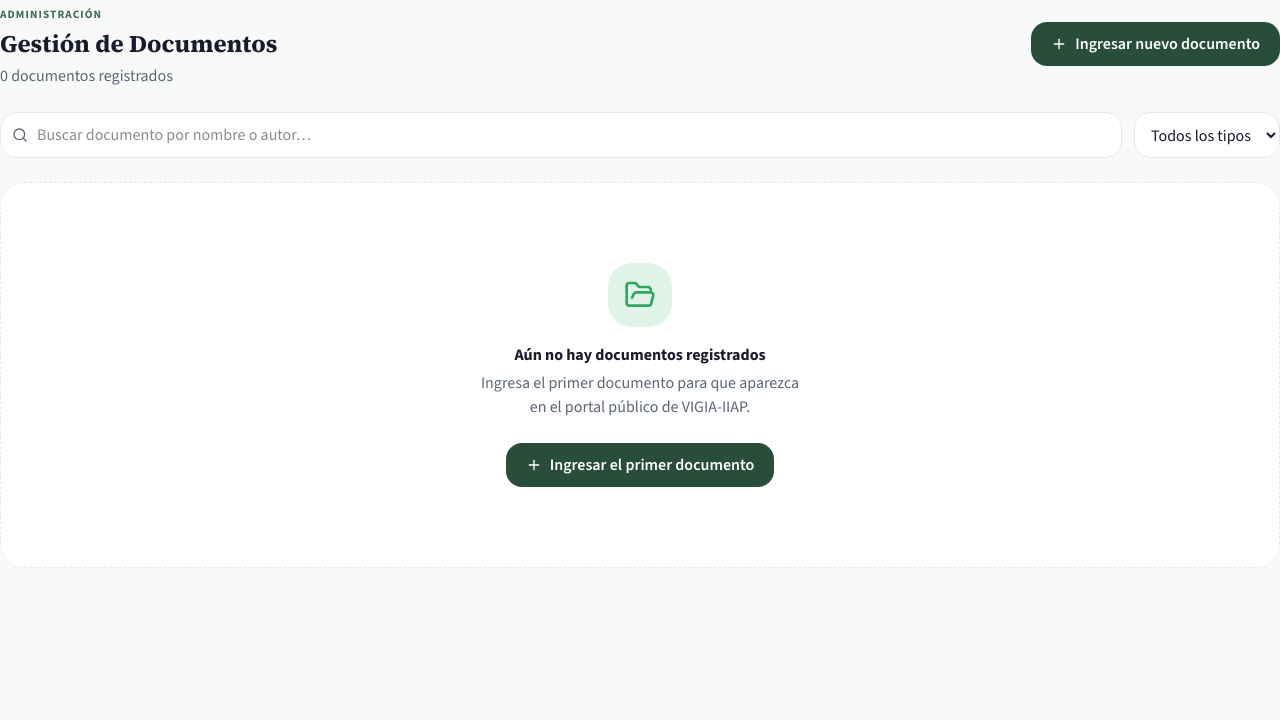
GestionDocumentos — validación del formulario › un año de publicación fuera de rango no debe silenciar los demás errores de validación
This screenshot has width=1280, height=720.
Click the button "Ingresar nuevo documento" at (1156, 44), box x1=1031 y1=22 x2=1279 y2=66
(page scrolled)
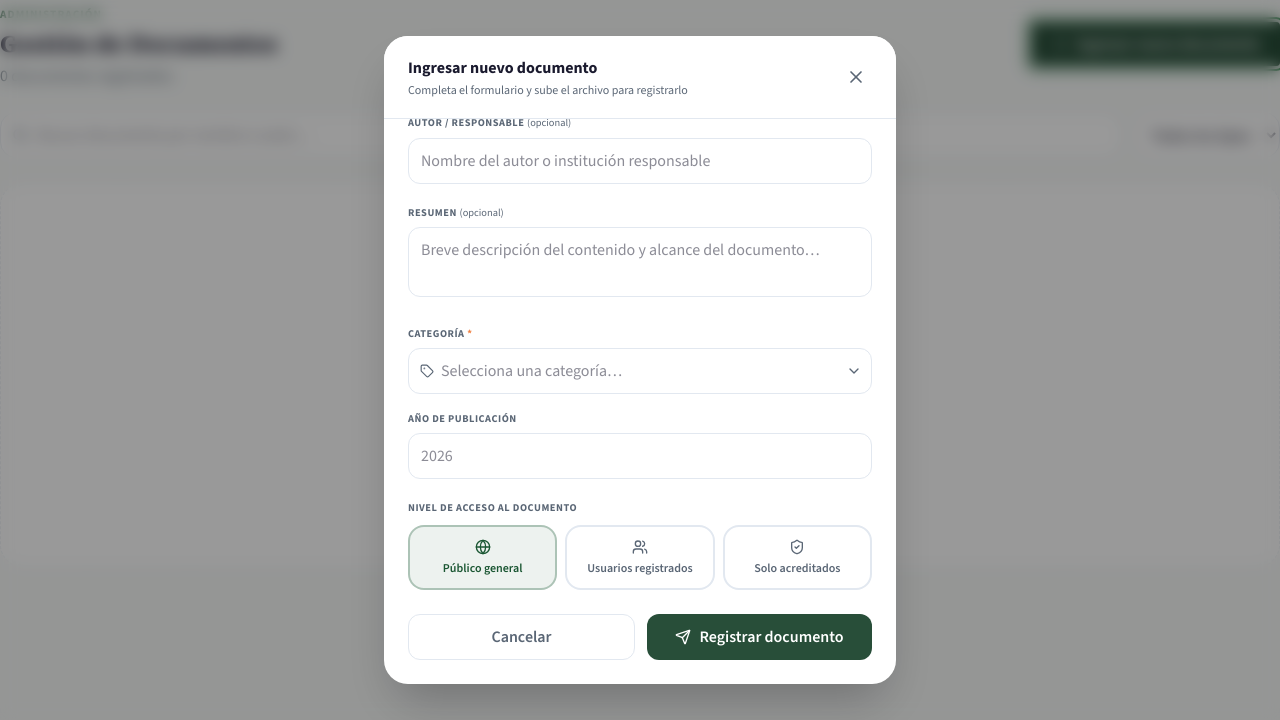
Type "1500" into the number field labelled "Año de publicación" at (640, 456), box x1=408 y1=434 x2=872 y2=480
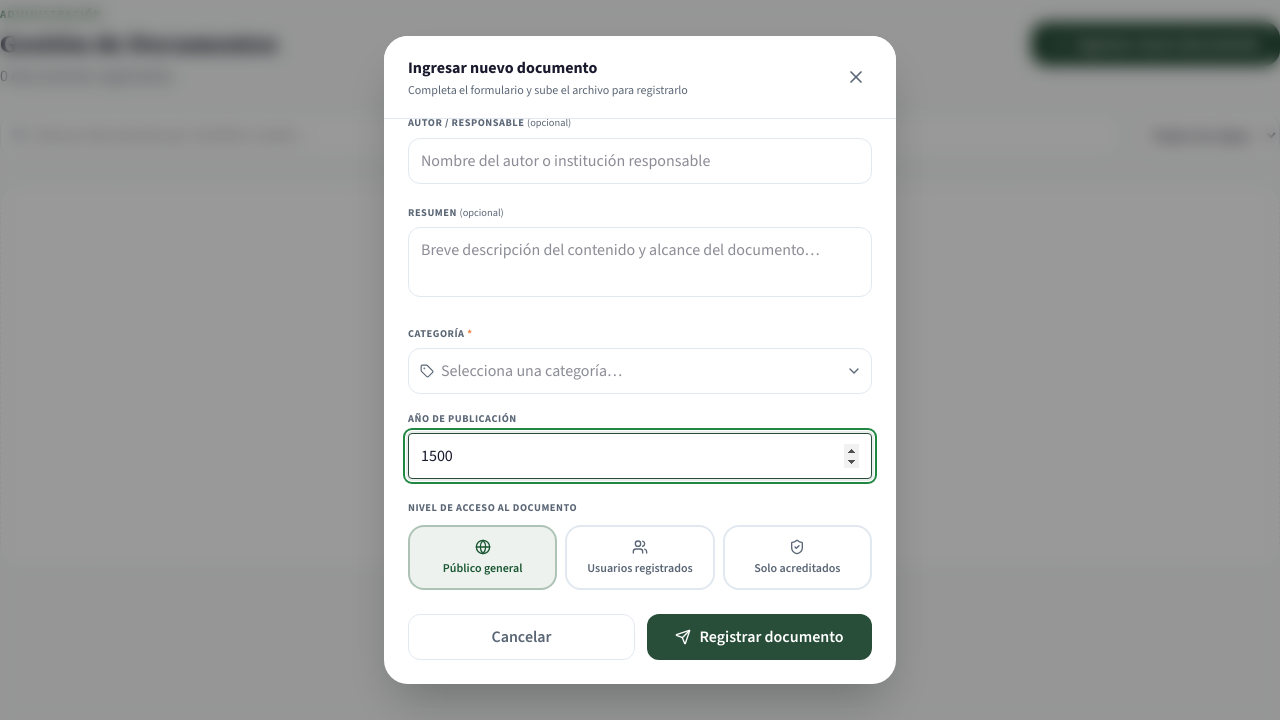
Click the button "Registrar documento" at (760, 637), box x1=647 y1=614 x2=872 y2=660
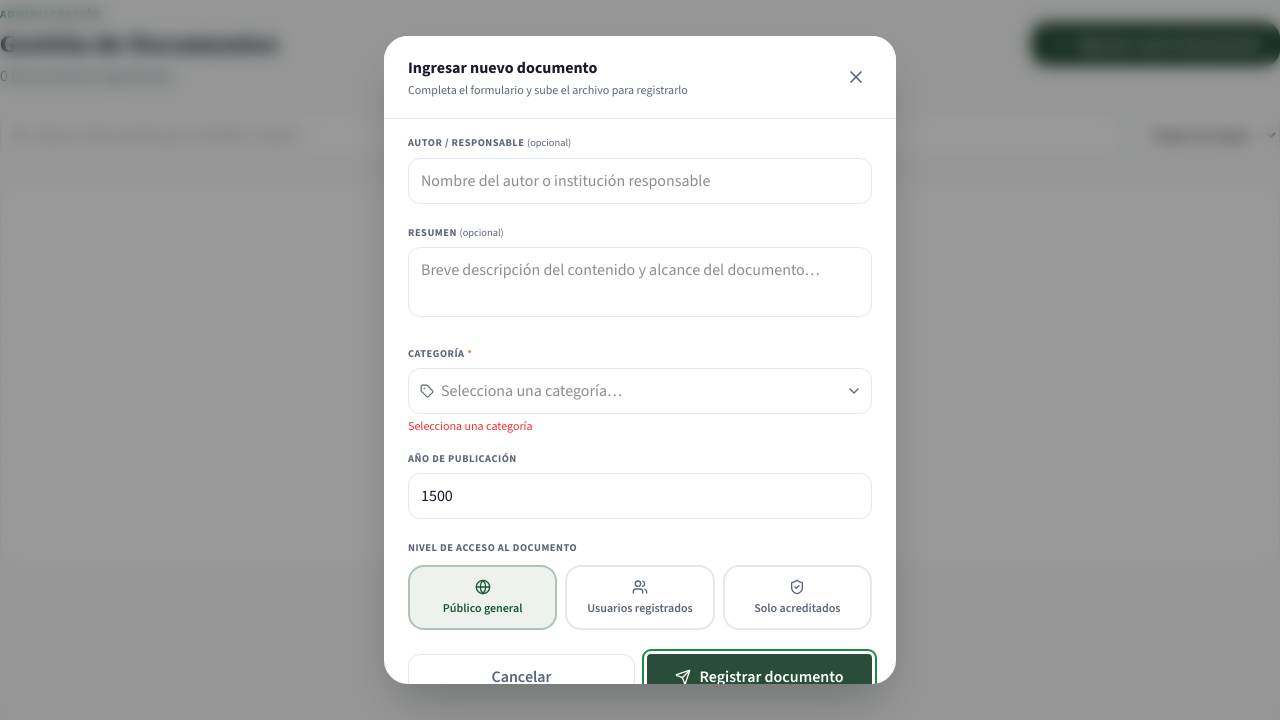
Expected: the text "El nombre del documento es obligatorio" is shown, x1=408 y1=98 x2=609 y2=114
Now the text "Selecciona una categoría" is shown, box x1=408 y1=418 x2=533 y2=434
